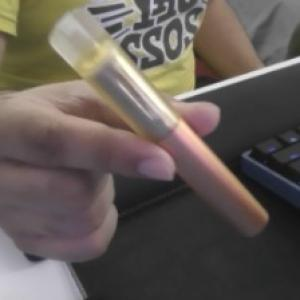Golden-E-Ciggirate: (49, 5, 271, 242)
